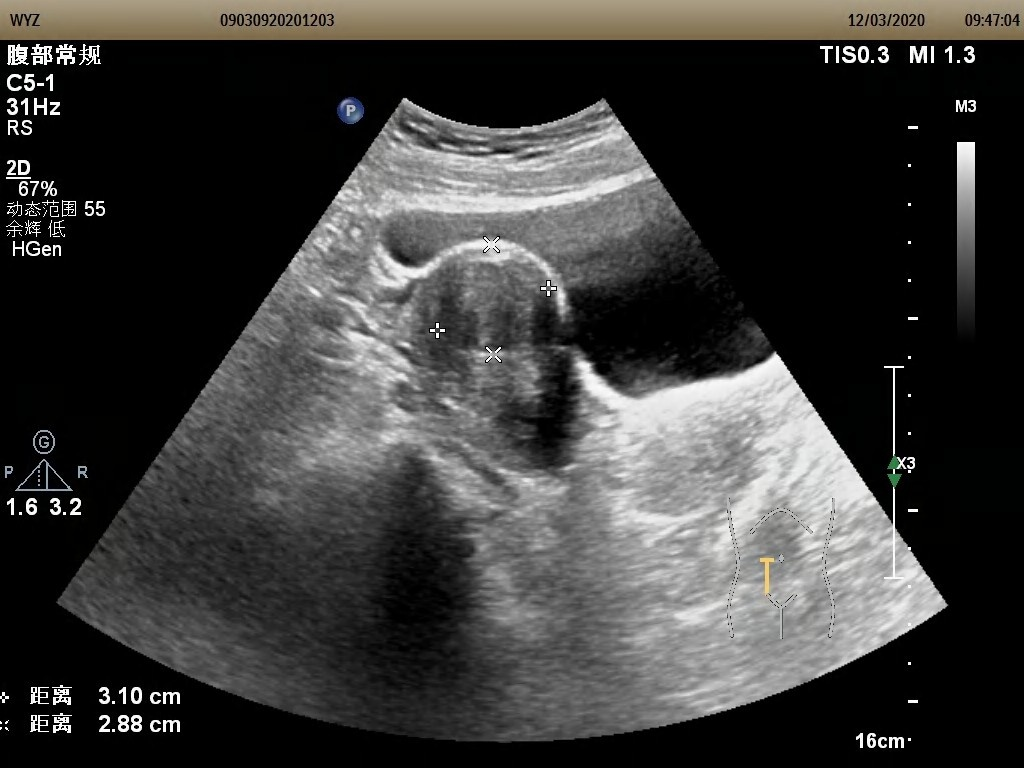肌瘤: (431, 247, 549, 350)
